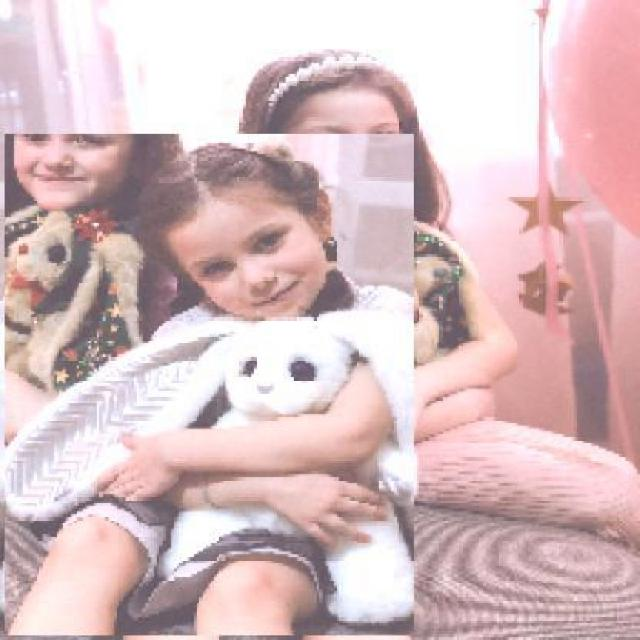child: (232, 44, 638, 556), (3, 134, 414, 637)
